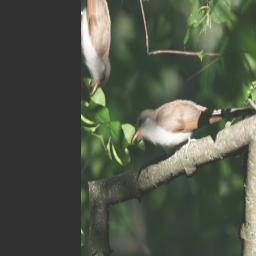Cuckoo: (126, 24, 256, 223)
